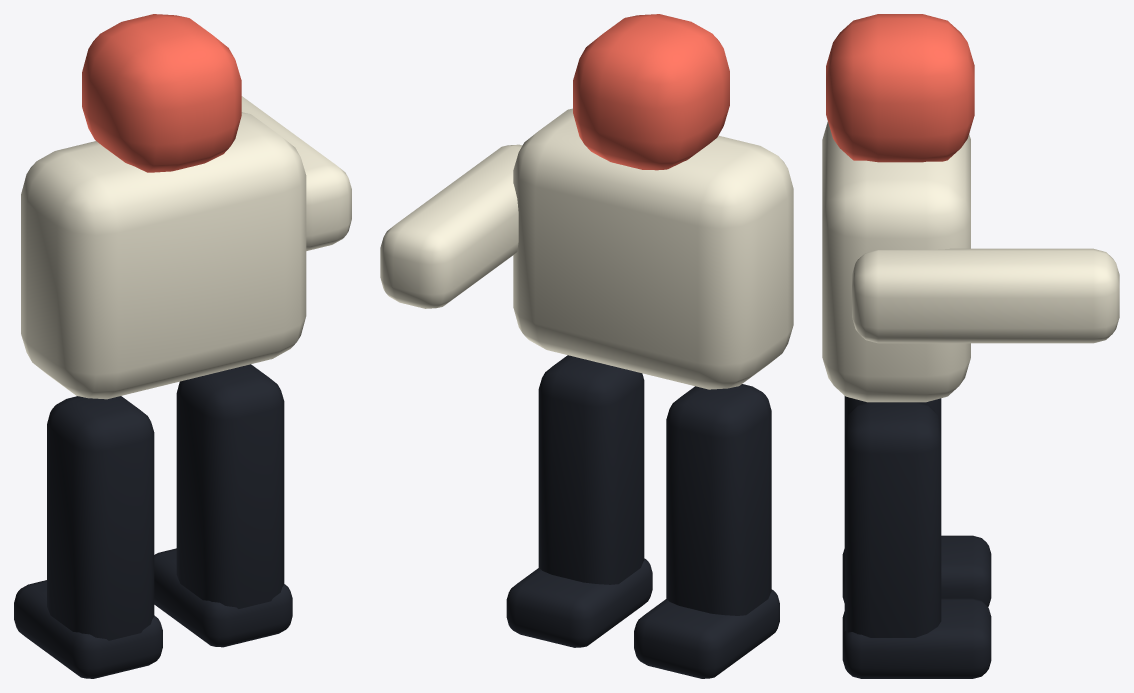
Rendered from s02_actor.glb.
3 renders of one model, left to right at view 1: azimuth 30°, elevation 25°; view 2: azimuth 150°, elevation 25°; view 3: azimuth 270°, elevation 25°, orthographic.
Parts seen in each view (by area): view 1: Jacket, Leg_-0.2, Leg_0.2, Head, Boot_-0.2, Boot_0.2, AimArm; view 2: Jacket, Leg_-0.2, Leg_0.2, Head, AimArm, Boot_0.2, Boot_-0.2; view 3: Jacket, AimArm, Leg_0.2, Head, Boot_0.2, Boot_-0.2, Leg_-0.2.
Part boxes in pixels (bbox=[...]): Jacket: bbox=[21, 112, 306, 399]; Leg_-0.2: bbox=[47, 396, 154, 640]; Leg_0.2: bbox=[176, 364, 284, 608]; Head: bbox=[82, 14, 241, 172]; Boot_-0.2: bbox=[14, 580, 162, 678]; Boot_0.2: bbox=[154, 548, 292, 647]; AimArm: bbox=[241, 96, 351, 250]; Jacket: bbox=[513, 108, 793, 389]; Leg_-0.2: bbox=[666, 384, 771, 615]; Leg_0.2: bbox=[538, 355, 644, 584]; Head: bbox=[573, 14, 729, 170]; AimArm: bbox=[380, 144, 522, 308]; Boot_0.2: bbox=[506, 558, 652, 647]; Boot_-0.2: bbox=[634, 589, 779, 678]; Jacket: bbox=[822, 121, 970, 402]; AimArm: bbox=[852, 248, 1119, 343]; Leg_0.2: bbox=[844, 402, 941, 637]; Head: bbox=[826, 14, 974, 162]; Boot_0.2: bbox=[842, 598, 991, 678]; Boot_-0.2: bbox=[842, 535, 991, 606]; Leg_-0.2: bbox=[844, 396, 941, 426].
Bounding box in the file's own units: 0.915 × 1.8 × 0.8.
